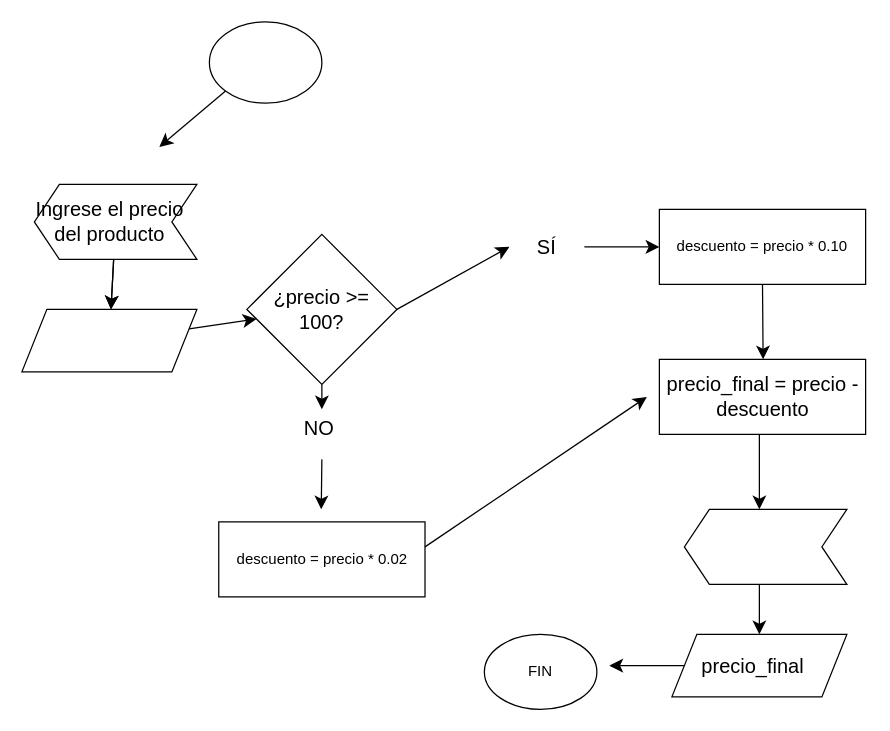
Image size: 890x731. Some labels were removed from this diagram. Each missing label, with the box of its shape:
El precio final con descuento aplicado es de:: (683, 508, 847, 584)
Inicio: (208, 21, 322, 103)
precio: (21, 308, 197, 372)
